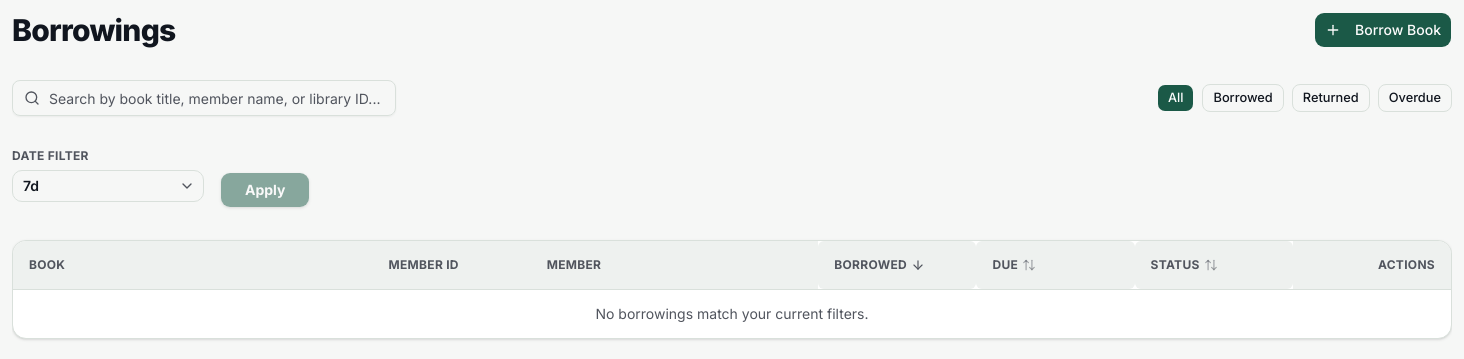
Scenario: BorrowingsPage date filter validation › shows custom date inputs when Custom Range is selected
Note: Click the date filter select trigger to open it
Click the dropdown named "date filter": (108, 186) [12, 170, 204, 202]
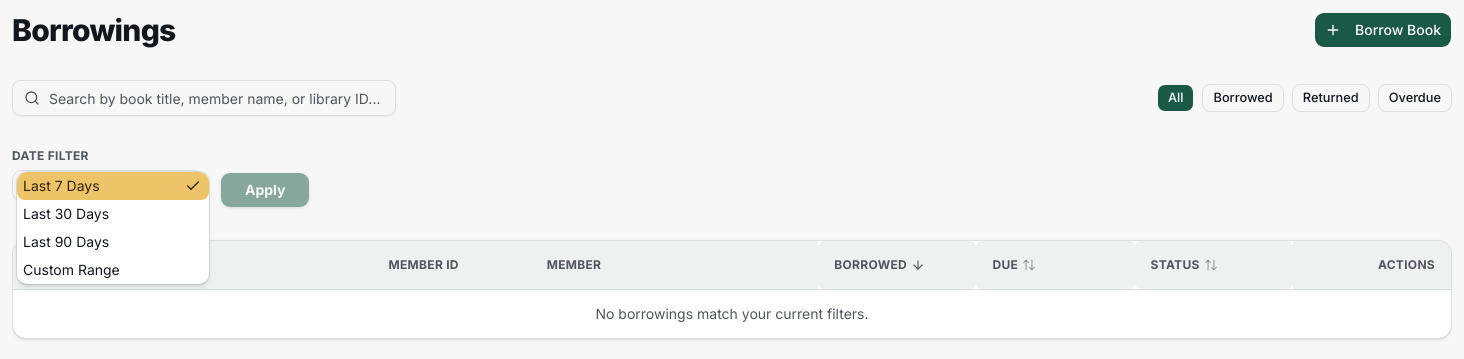
Note: Select "Custom Range" by text
Click the option "Custom Range": (71, 270) [23, 261, 120, 278]
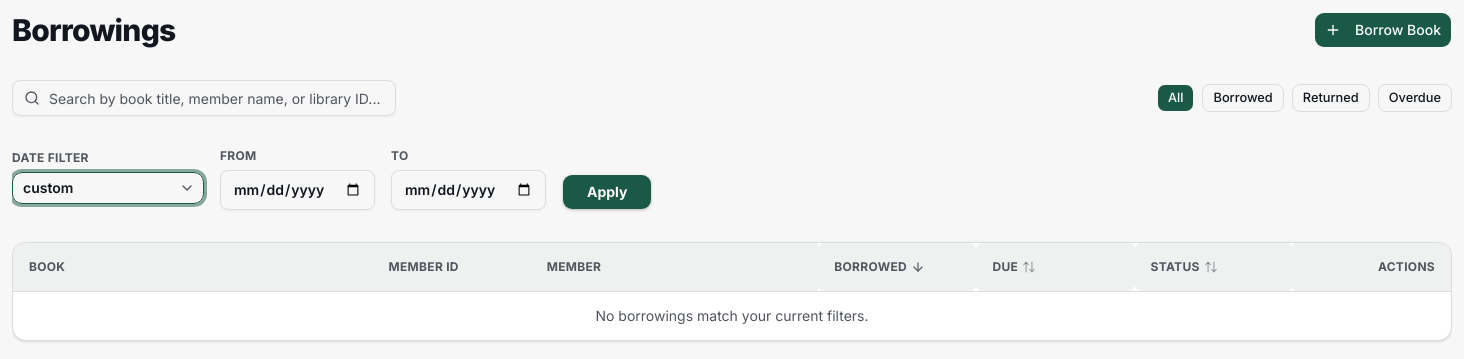
Check: the date field named "filter start date" is shown, box [220, 170, 375, 210]
Check: the date field named "filter end date" is shown, box [391, 170, 546, 210]
